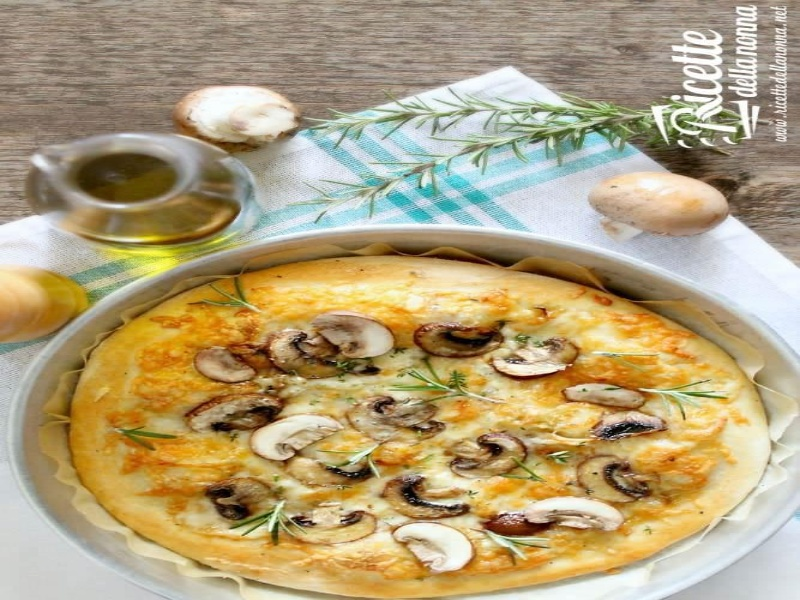champignon: (240, 408, 347, 461), (276, 494, 379, 549), (309, 308, 408, 363), (438, 428, 536, 483), (516, 493, 633, 539), (391, 520, 485, 577), (378, 471, 479, 520), (483, 334, 585, 382), (574, 450, 664, 504), (202, 473, 278, 530), (192, 393, 290, 435)
